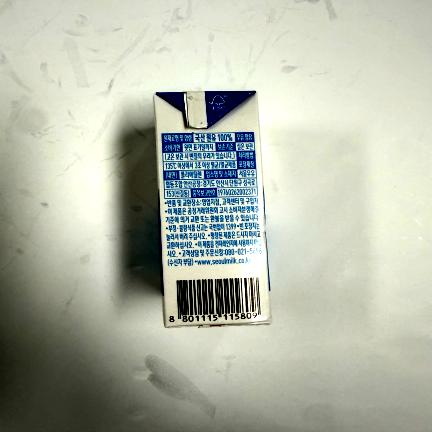milk_blue: (156, 92, 272, 326)
